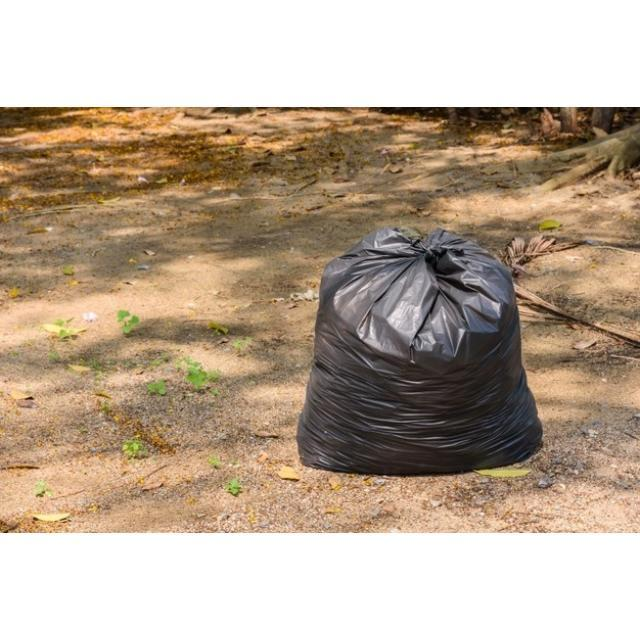plastic: (297, 228, 542, 475)
